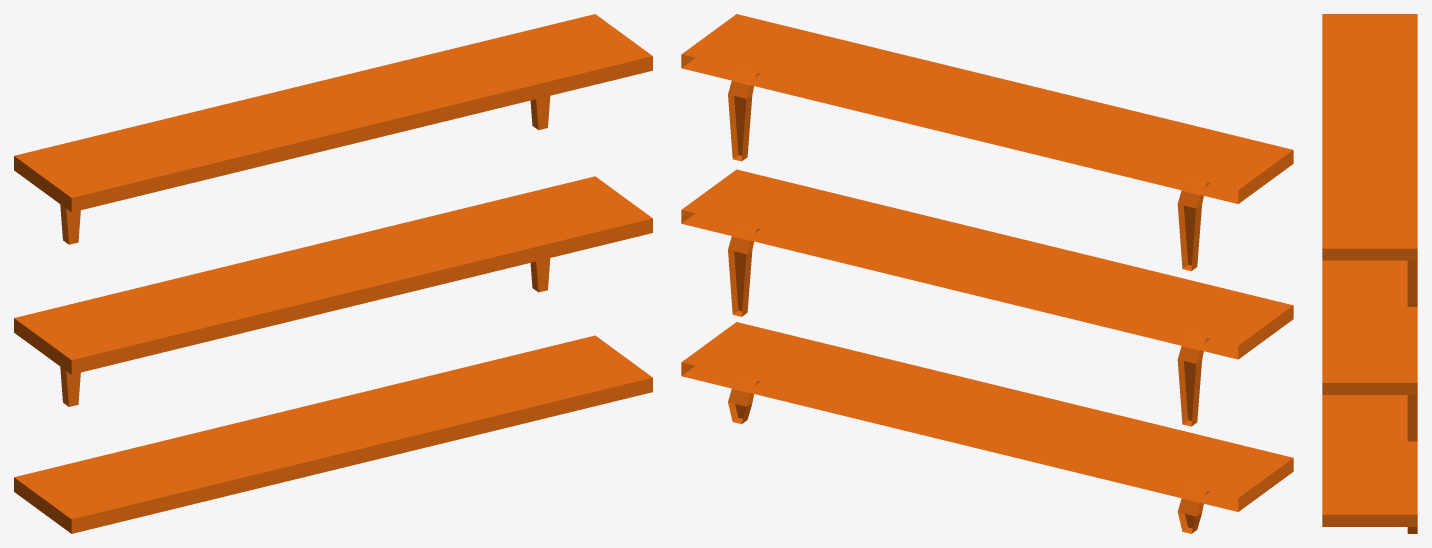
File: SM_Bld_Shelf_01.obj
3 views of the same model, side by side, from view 1: azimuth 30°, elevation 25°; view 2: azimuth 150°, elevation 25°; view 3: azimuth 270°, elevation 25° (orthographic). The views are drawn at different scales.
Visible parts, largest first — view 1: SM_Bld_Shelf_01_0; view 2: SM_Bld_Shelf_01_0; view 3: SM_Bld_Shelf_01_0.
Part boxes in pixels (bbox=[...]): SM_Bld_Shelf_01_0: bbox=[14, 14, 652, 533]; SM_Bld_Shelf_01_0: bbox=[681, 14, 1293, 533]; SM_Bld_Shelf_01_0: bbox=[1322, 14, 1417, 533].
Bounding box in the file's own units: 2.42 × 1.47 × 0.4153.
